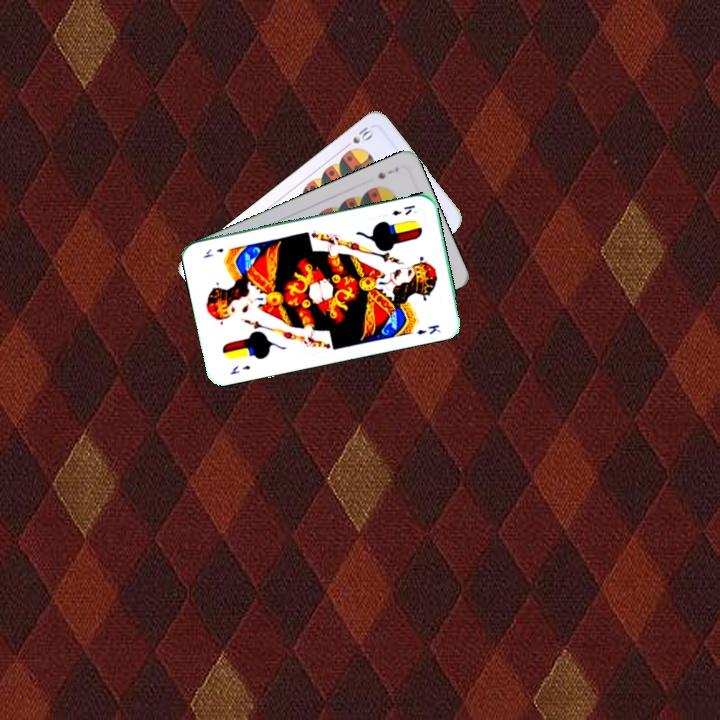EK: (388, 201, 418, 218), (226, 361, 253, 377)
S10: (348, 121, 377, 146)
S7: (374, 163, 401, 181)
